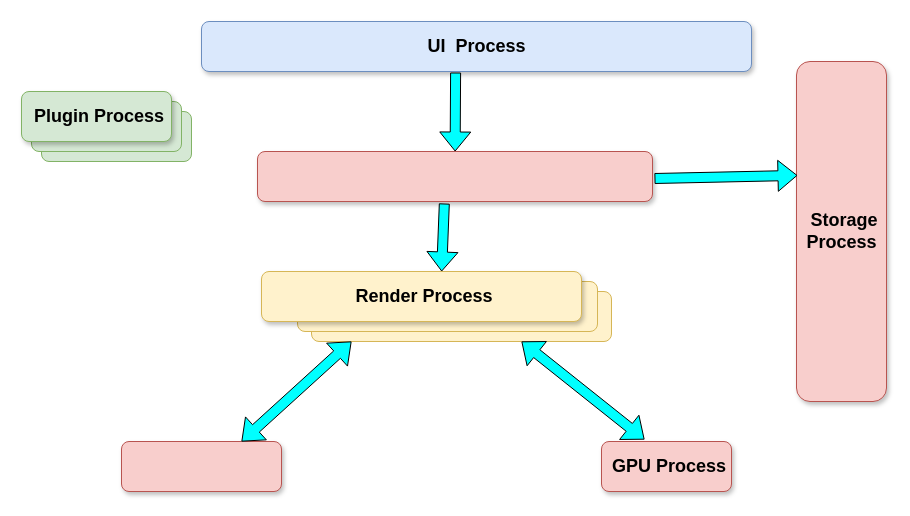
This 910x516 diagram has some shape labels left out. Each missing label, with the centre of its shape:
Broswer Process: [455,177]
Network Process: [202,467]
